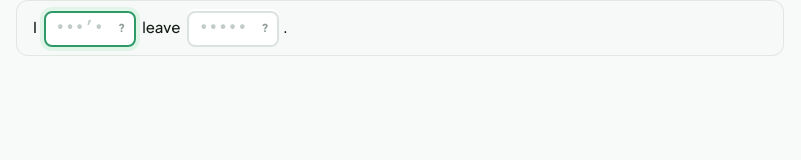
Test: FillInBlanksDictation › handles Enter navigation, commit-time invalid marking, live region feedback, and focus on first invalid blank
In the field named "Blank 1": x=90, y=29 [44, 11, 136, 47], type "wrng1"
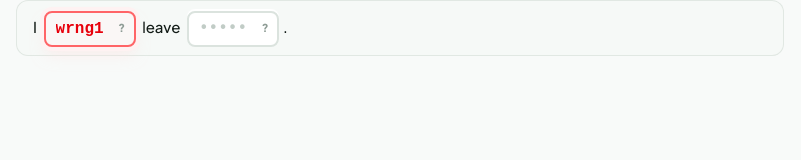
Expected: the field named "Blank 1" is marked as invalid
Press Enter in the field named "Blank 1", box [44, 11, 136, 47]
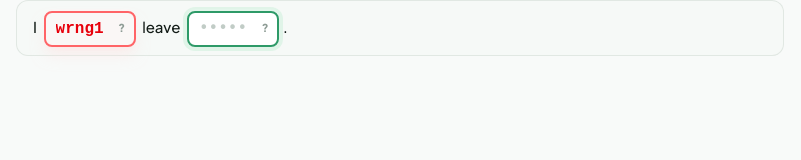
Note: Backspace on empty second blank focuses first blank
Press Backspace in the field named "Blank 2", box [187, 11, 279, 47]
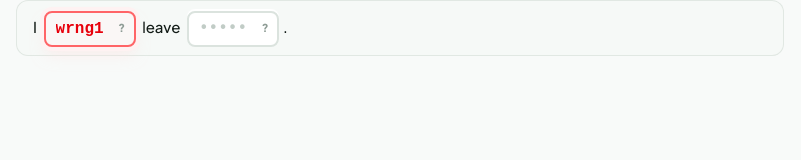
Note: Navigate back to second blank, type wrong answer, and commit with Enter
Press Enter in the field named "Blank 1", box [44, 11, 136, 47]
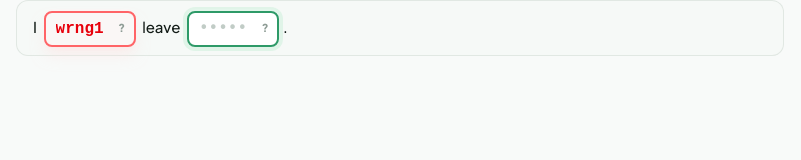
In the field named "Blank 2": x=233, y=29 [187, 11, 279, 47], type "wrng2"
Press Enter in the field named "Blank 2", box [187, 11, 279, 47]
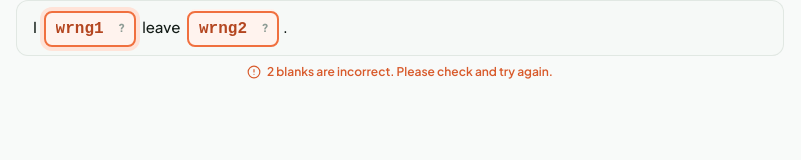
Expected: the text "2 blanks are incorrect. Please check and try again." is shown, [267, 64, 553, 80]
Note: Editing first blank immediately clears its error state
Replace the text in the field named "Blank 1" with "don't": x=90, y=29 [44, 11, 136, 47]
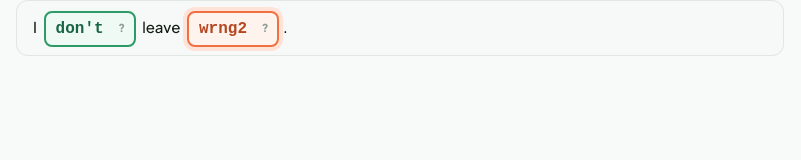
Expected: the field named "Blank 1" is not marked as invalid, [44, 11, 136, 47]
